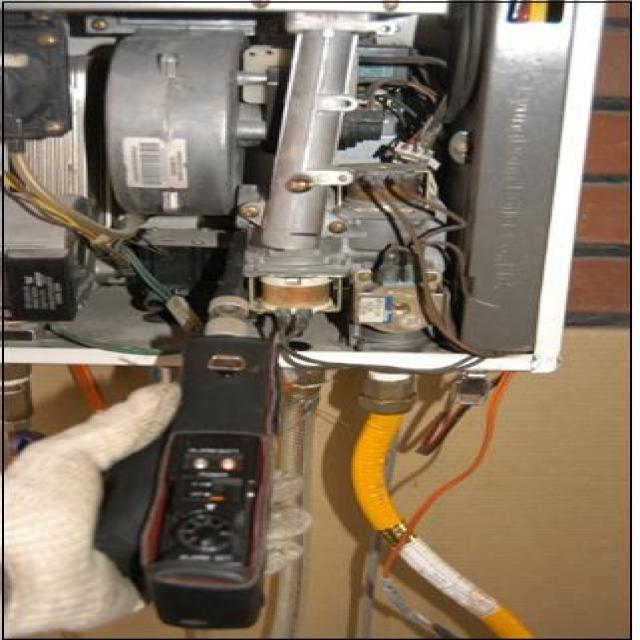Boiler: (0, 0, 614, 438)
